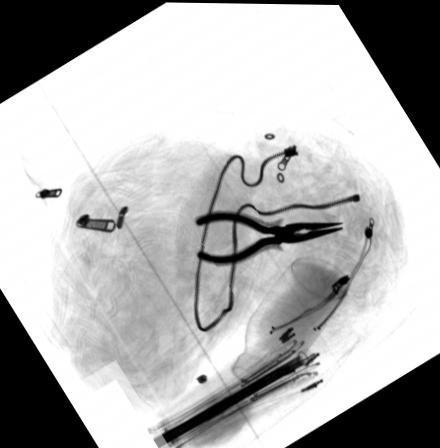Pliers: (193, 207, 344, 265)
